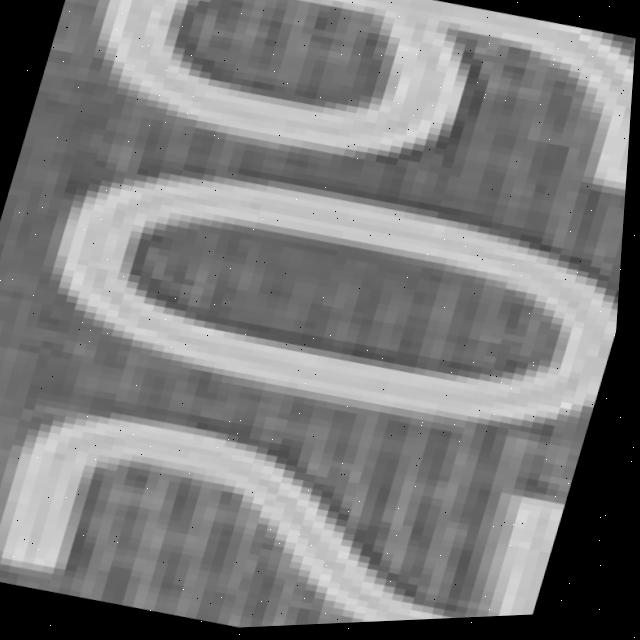character: (0, 107, 631, 487), (0, 361, 576, 640), (33, 0, 640, 252)
